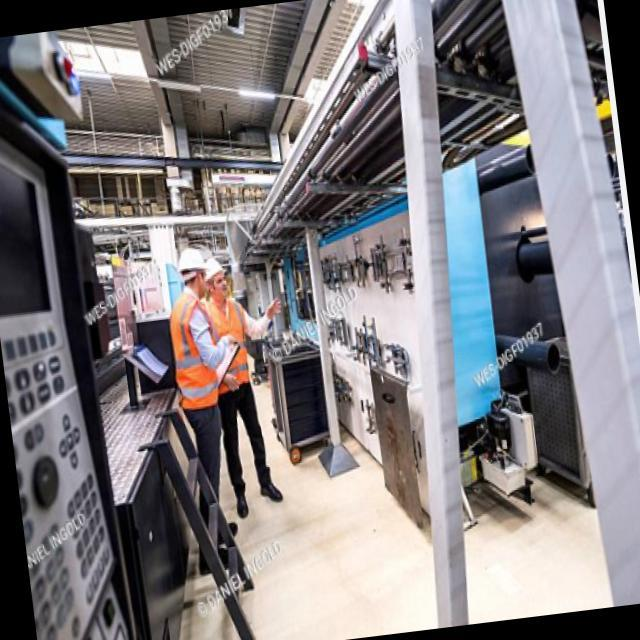hard_hat: (174, 243, 215, 302), (199, 251, 232, 301)
shoes: (229, 461, 286, 520), (191, 515, 243, 577)
vest: (162, 288, 225, 413), (196, 289, 256, 398)
